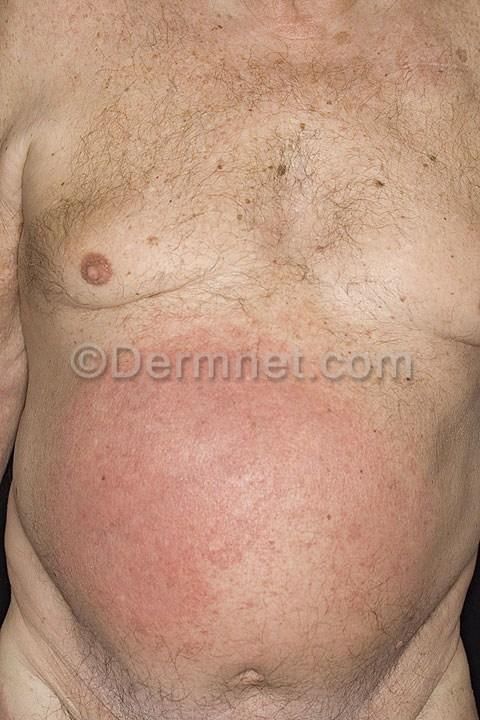Eczema: (49, 397, 207, 606), (236, 389, 401, 472), (312, 487, 430, 589), (213, 490, 260, 568)
